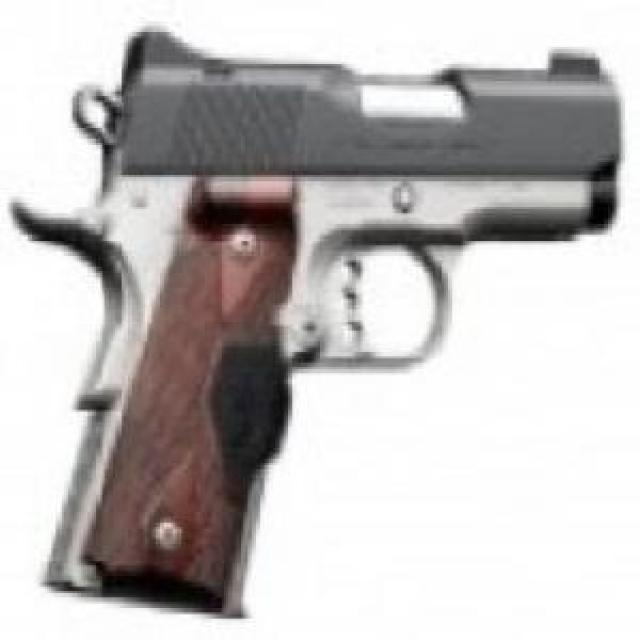pistol: (8, 32, 621, 629)
